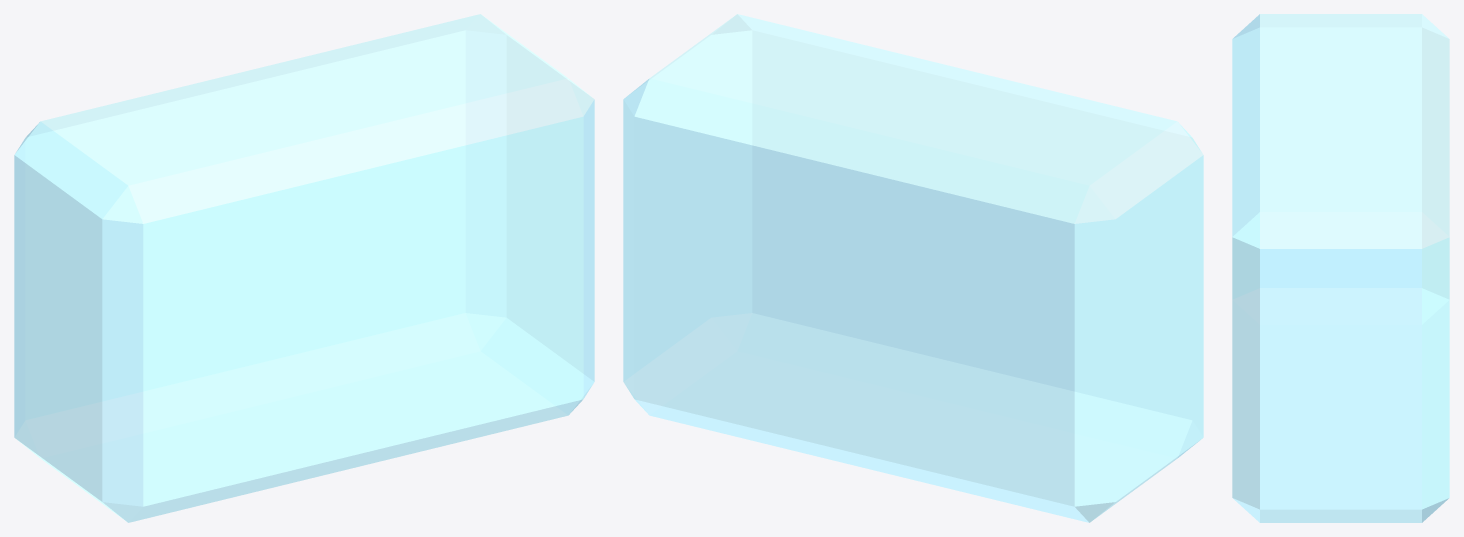
Rendered from Brick.fbx.
The picture shows the model from 3 angles, left to right: view 1: azimuth 30°, elevation 25°; view 2: azimuth 150°, elevation 25°; view 3: azimuth 270°, elevation 25°; orthographic projection. The views are drawn at different scales.
Parts seen in each view (by area): view 1: Cube; view 2: Cube; view 3: Cube.
Part boxes in pixels (x1,y1,x2,y2): Cube: [14, 14, 594, 522]; Cube: [623, 14, 1203, 522]; Cube: [1232, 14, 1449, 522].
Bounding box in the file's own units: 22.67 × 14.84 × 9.41.
